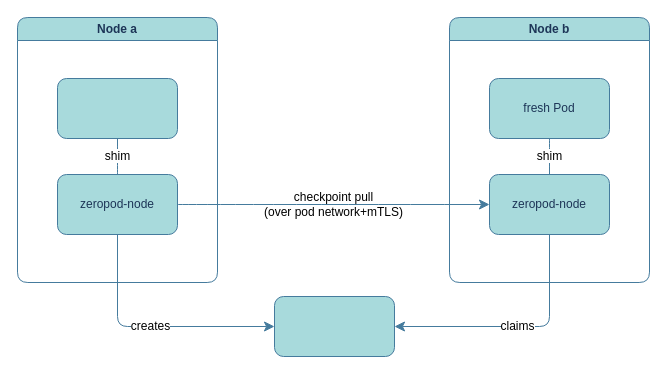
The diagram is 667 pixels wide and 374 high, and some of its shapes have lost their labels. The centre of each missing label's shape, as x and y in pixels:
deleted Pod: (x=117, y=108)
Migration CR: (x=334, y=326)
